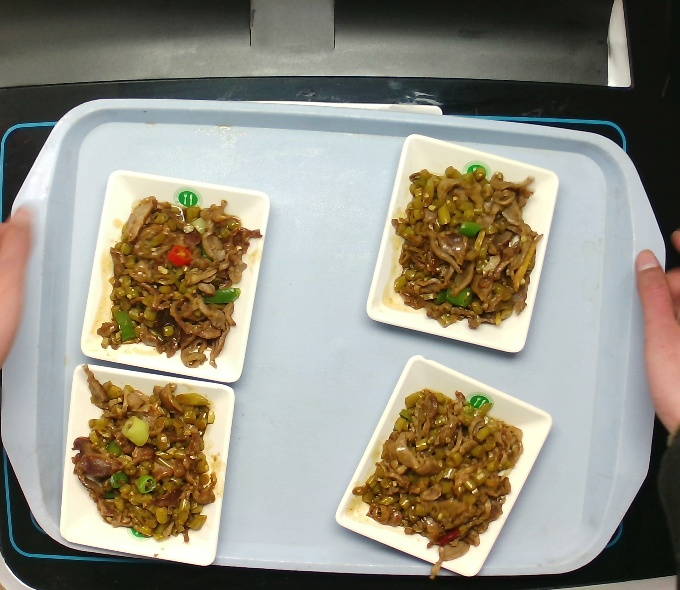wcq-JiZhen: (357, 376, 537, 563), (90, 191, 266, 371), (378, 159, 553, 332), (64, 374, 227, 543)
